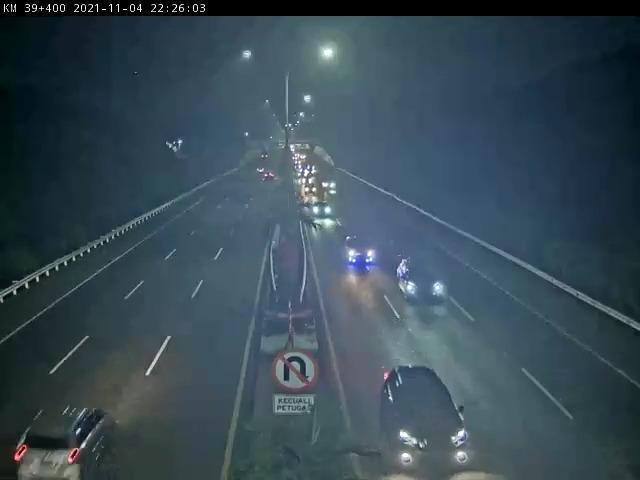car: (386, 365, 474, 469), (11, 409, 117, 480), (396, 259, 447, 308), (349, 238, 375, 272), (306, 198, 333, 224)
